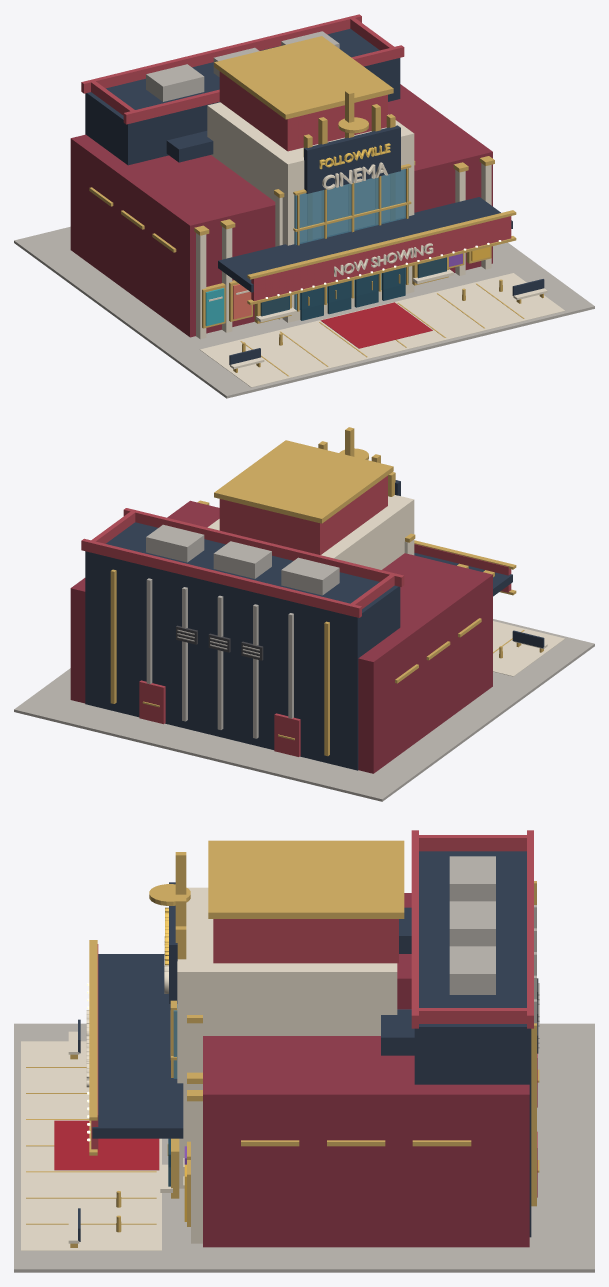
Rendered from movie-theater.glb.
3 views of the same model, one above another, from view 1: azimuth 30°, elevation 25°; view 2: azimuth 150°, elevation 25°; view 3: azimuth 270°, elevation 25° (orthographic). The views are drawn at different scales.
Parts seen in each view (by area): view 1: movie_theater_batched.001, fm_text.020, fm_text.024, fm_text.022; view 2: movie_theater_batched.001; view 3: movie_theater_batched.001.
Part boxes in pixels (x1,y1,x2,y2): movie_theater_batched.001: (14, 14, 594, 398); fm_text.020: (334, 243, 433, 276); fm_text.024: (322, 162, 388, 189); fm_text.022: (319, 143, 390, 169); movie_theater_batched.001: (14, 427, 594, 801); movie_theater_batched.001: (14, 830, 594, 1272).
Bounding box in the file's own units: 33.8 × 19.02 × 33.8.
